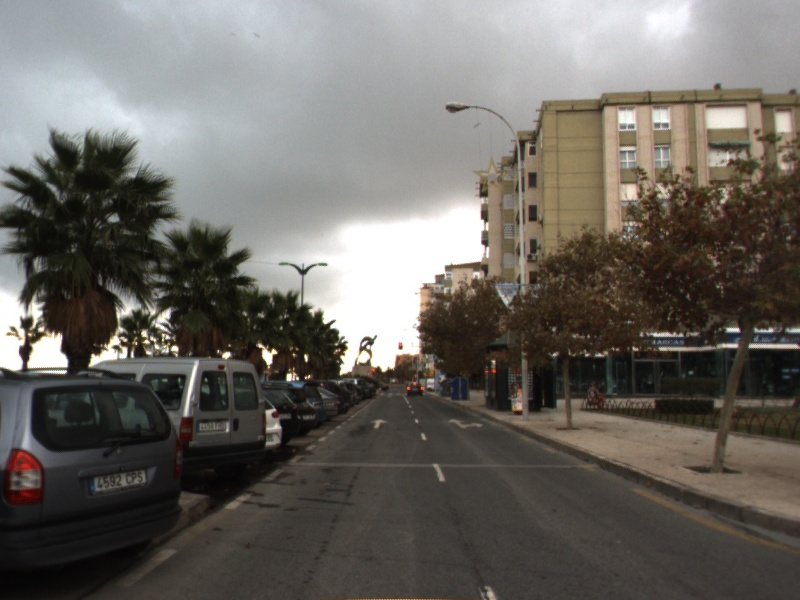STRAIGHT: (368, 417, 389, 430)
STRAIGHT_RIGHT: (446, 416, 485, 431)
